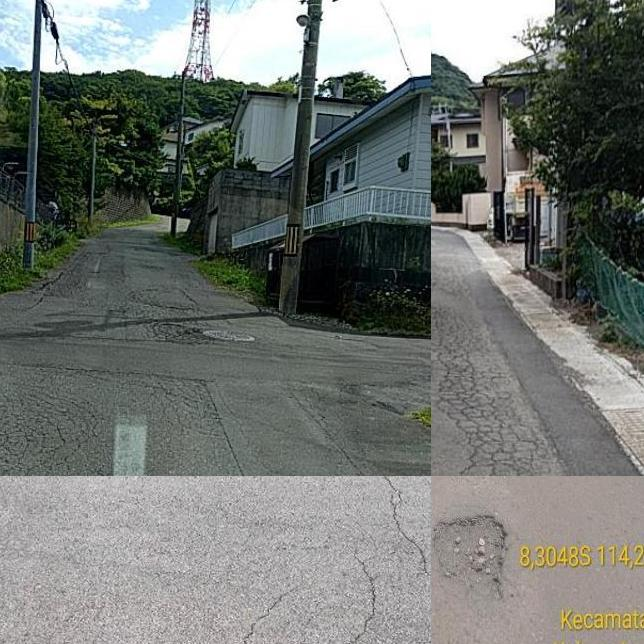Lubang: (431, 514, 506, 594)
Memanjang: (368, 476, 431, 594)
Retak Buaya: (431, 313, 571, 476)
